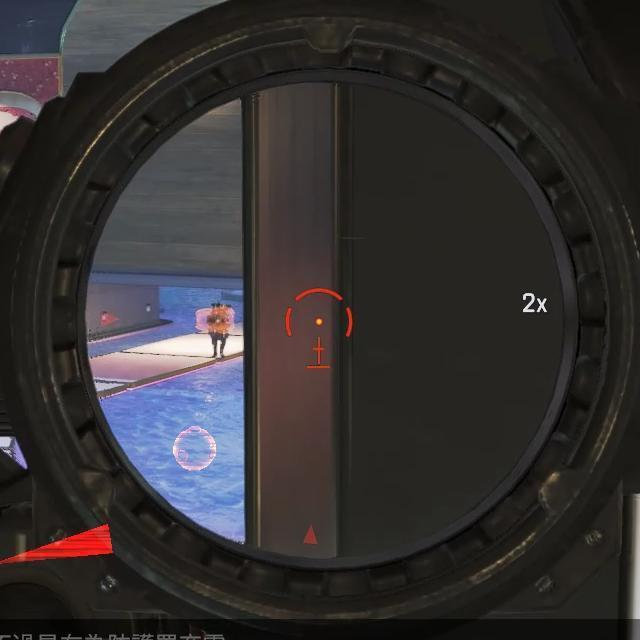avatar: (205, 299, 232, 362)
object: (194, 308, 236, 336)
